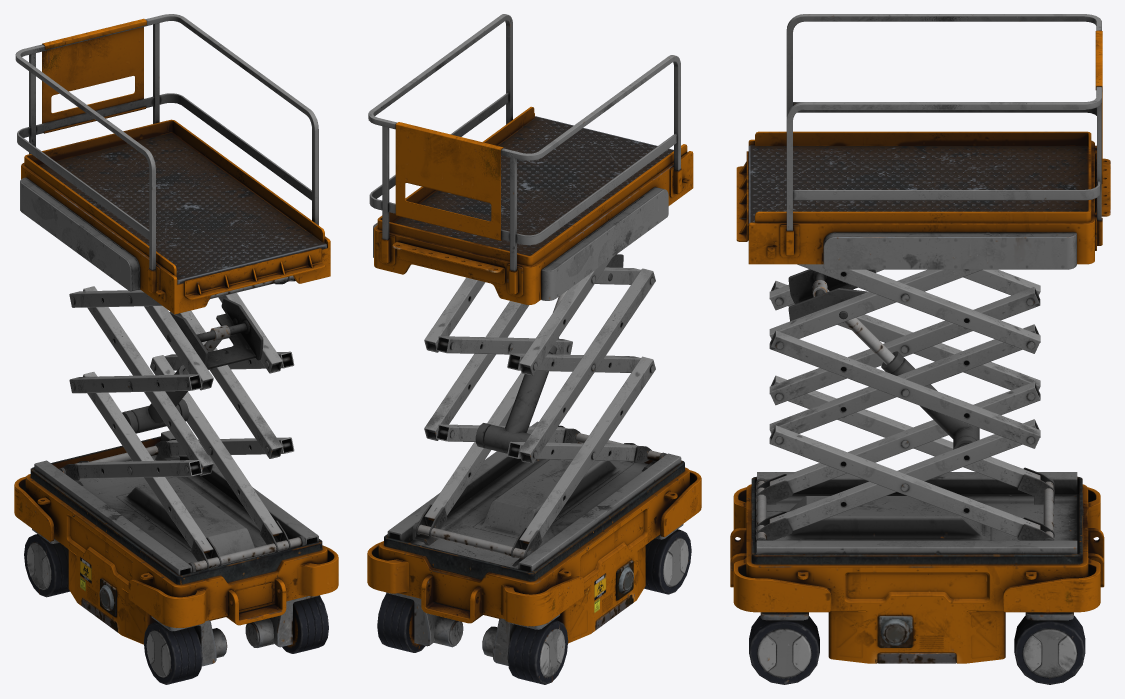
The model's file is SM_Lifter_Style02.fbx.
3 views of the same model, side by side, from view 1: azimuth 30°, elevation 25°; view 2: azimuth 150°, elevation 25°; view 3: azimuth 270°, elevation 25° (orthographic). The views are drawn at different scales.
Parts seen in each view (by area): view 1: SM_Lifter_Style02_LOD0; view 2: SM_Lifter_Style02_LOD0; view 3: SM_Lifter_Style02_LOD0.
Boxes of the visible parts, left/top/right/bottom form: SM_Lifter_Style02_LOD0: left=14, top=14, right=338, bottom=684; SM_Lifter_Style02_LOD0: left=367, top=14, right=701, bottom=684; SM_Lifter_Style02_LOD0: left=730, top=14, right=1110, bottom=684.
Bounding box in the file's own units: 107 × 181 × 307.
1 material, 1 textured.
